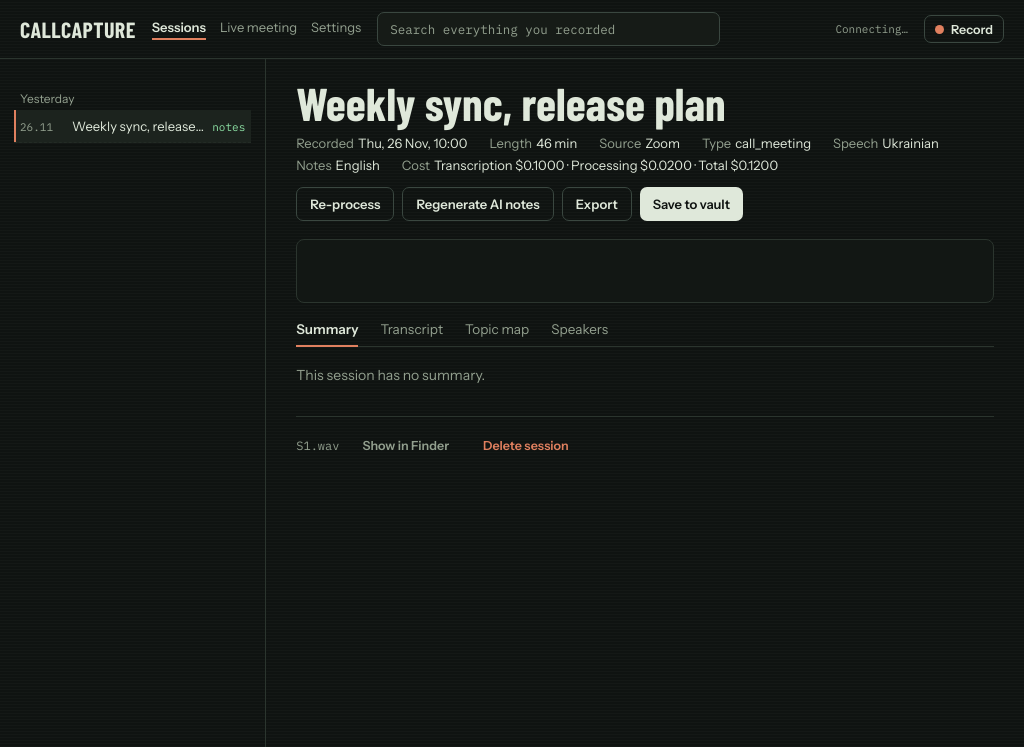
Test: SessionDetail › shows progress after re-processing starts
The image size is (1024, 747).
Click the button "Re-process".
click(345, 204)  # box [296,187,394,221]
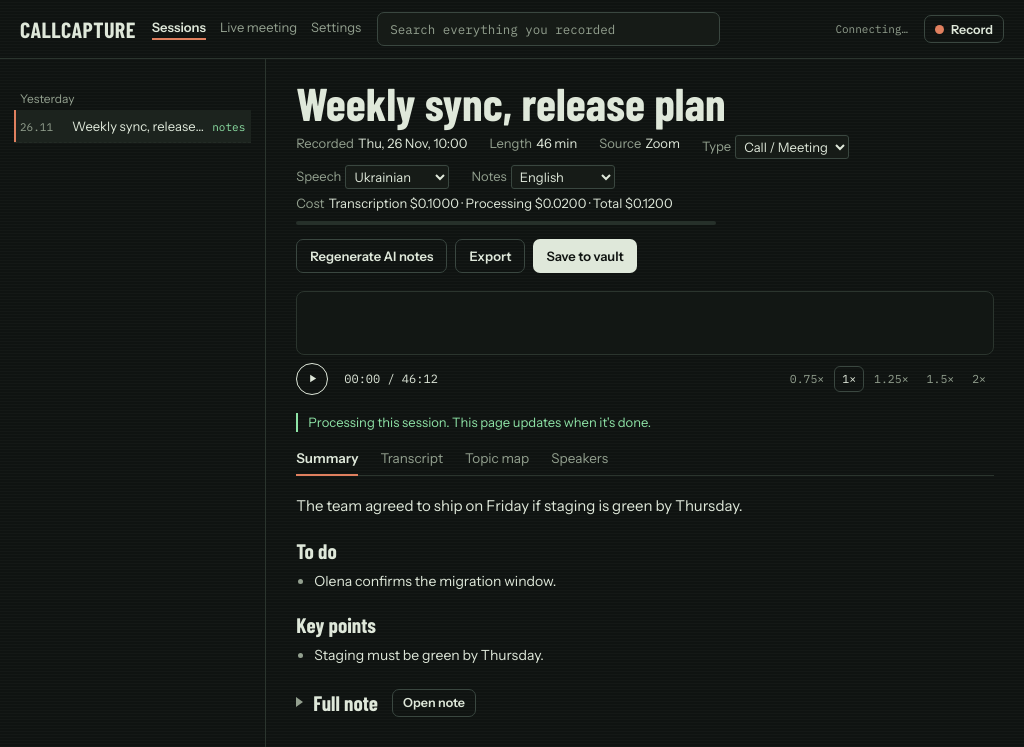
Check: the text "Processing this session. This page updates when it's done." is shown, box [296,413,994,432]
